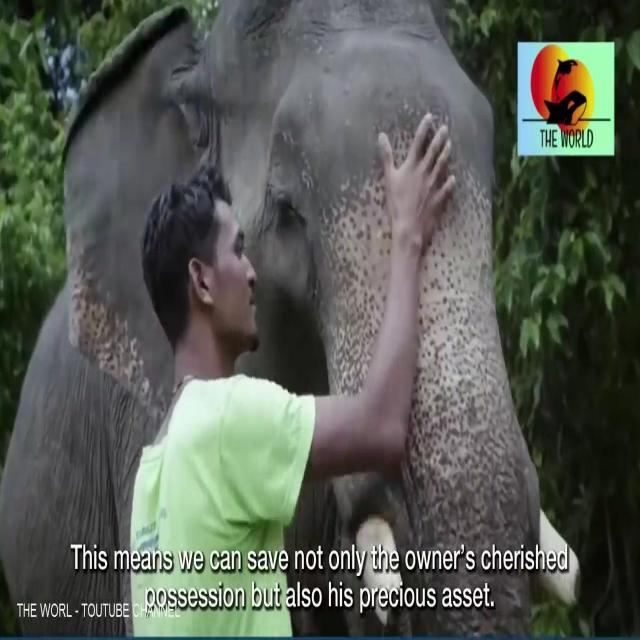Elephant: (55, 0, 502, 531)
